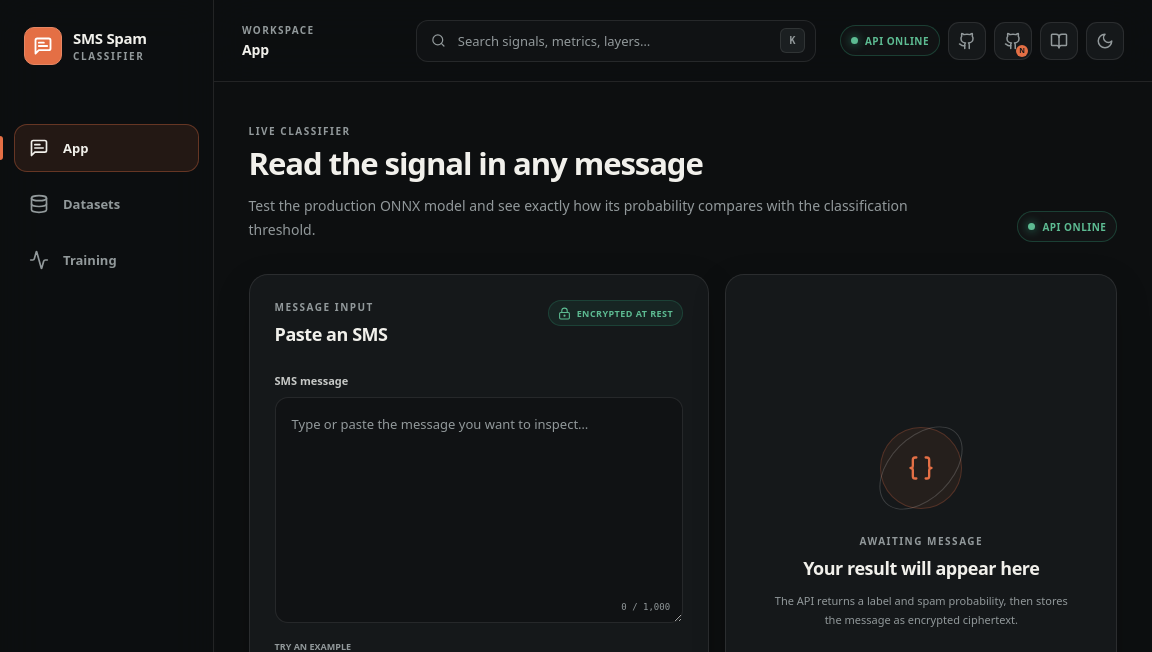
Scenario: workspace navigation and controls › focuses search with K and opens a matching result
Type keys "k"
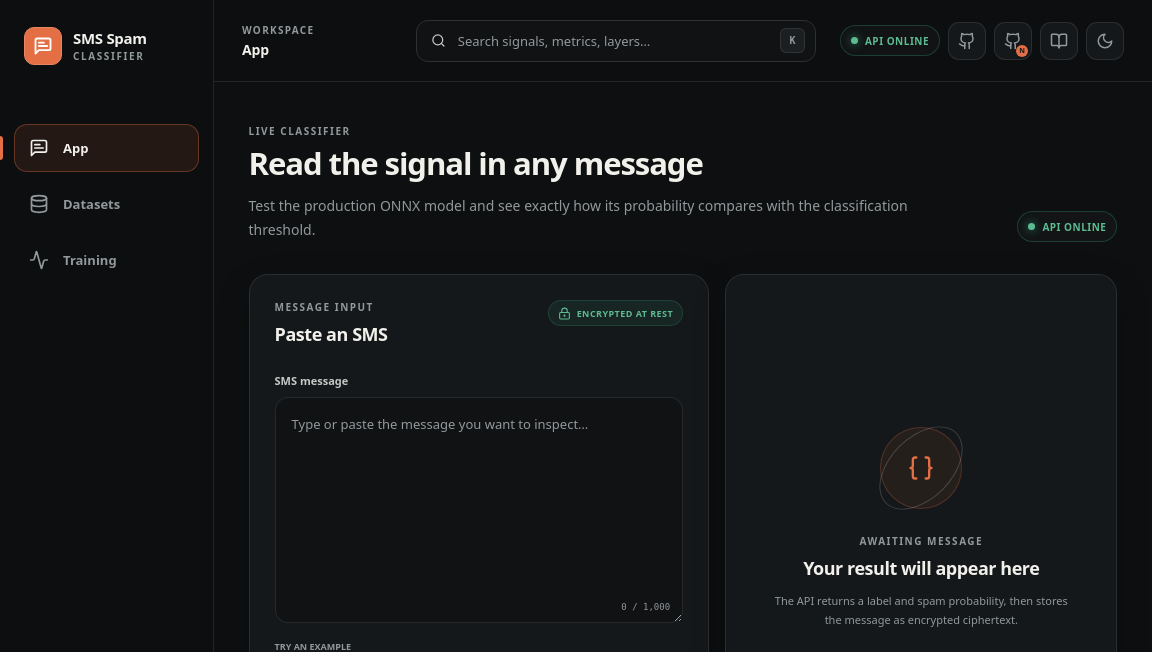
Type "Vocabulary" into the search field named "Search datasets, metrics, and model details" at (610, 40), box [446,20,774,60]
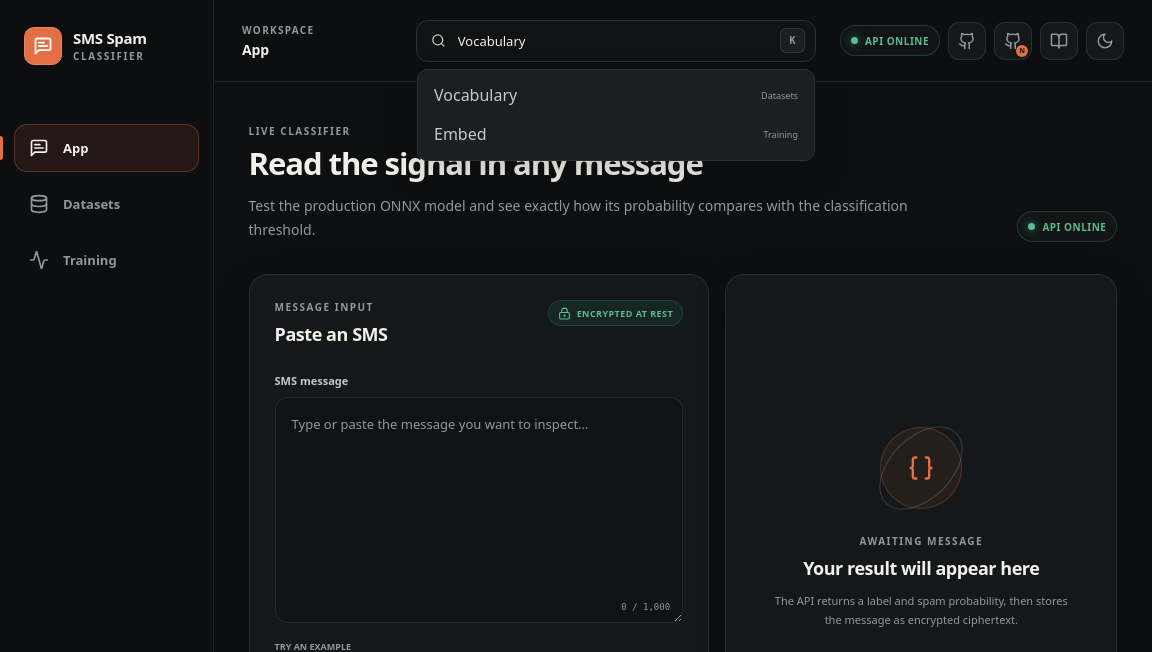
Now the button with aria-label "Vocabulary, Datasets" is shown
Click the button with aria-label "Vocabulary, Datasets" at (476, 95), box [424,76,808,114]
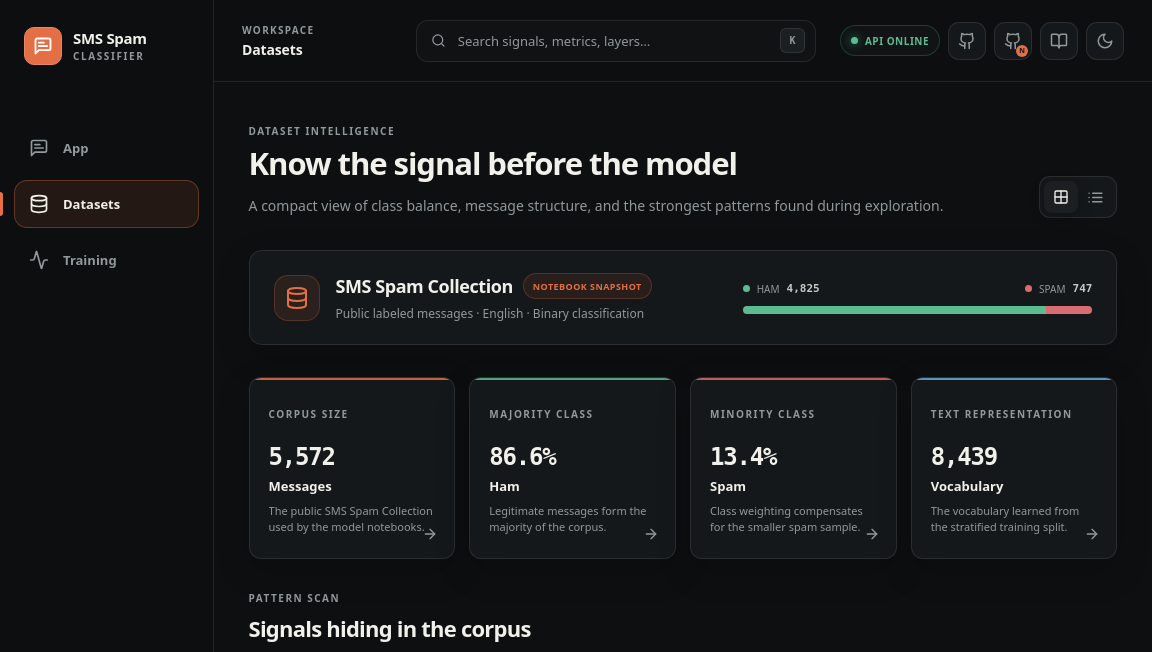
Now the heading "Know the signal before the model" is shown, box [248,142,737,184]
